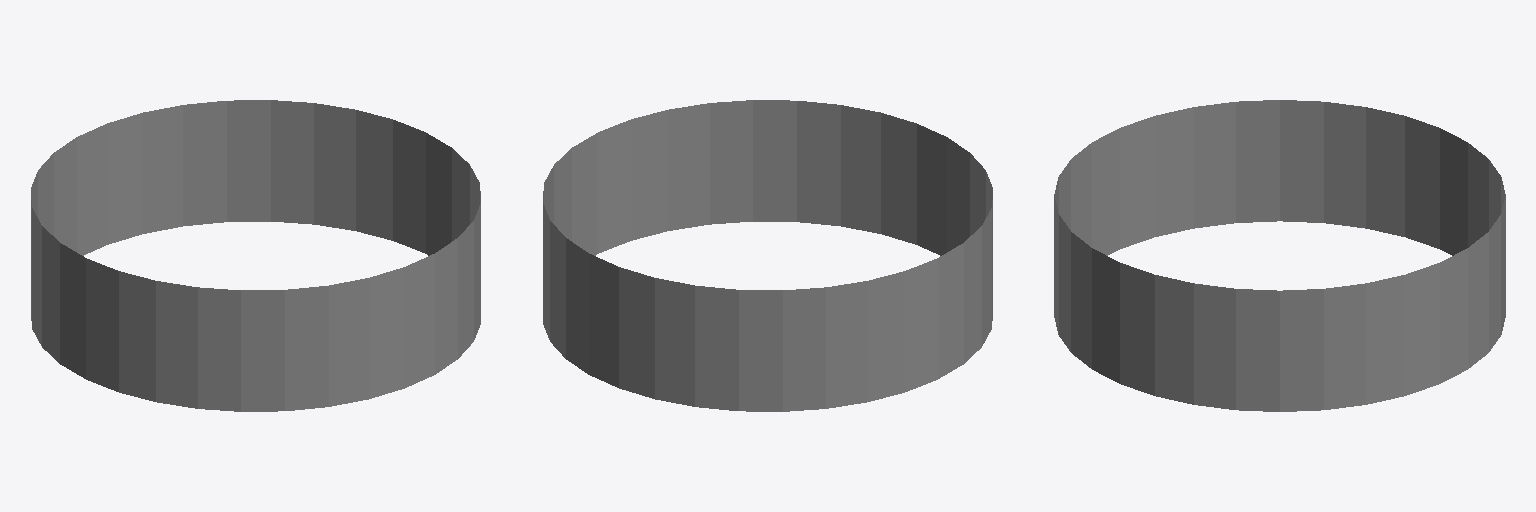
The model's file is surroundings.obj.
3 views of the same model, side by side, from view 1: azimuth 30°, elevation 25°; view 2: azimuth 150°, elevation 25°; view 3: azimuth 270°, elevation 25° (orthographic).
Parts seen in each view (by area): view 1: Cylinder; view 2: Cylinder; view 3: Cylinder.
Part boxes in pixels (x1,y1,x2,y2): Cylinder: (31,100,480,411); Cylinder: (543,100,992,411); Cylinder: (1054,100,1505,411).
Bounding box in the file's own units: 64.55 × 19.18 × 64.55.